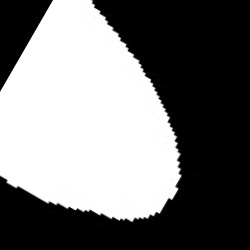spot: (3, 1, 181, 221)
